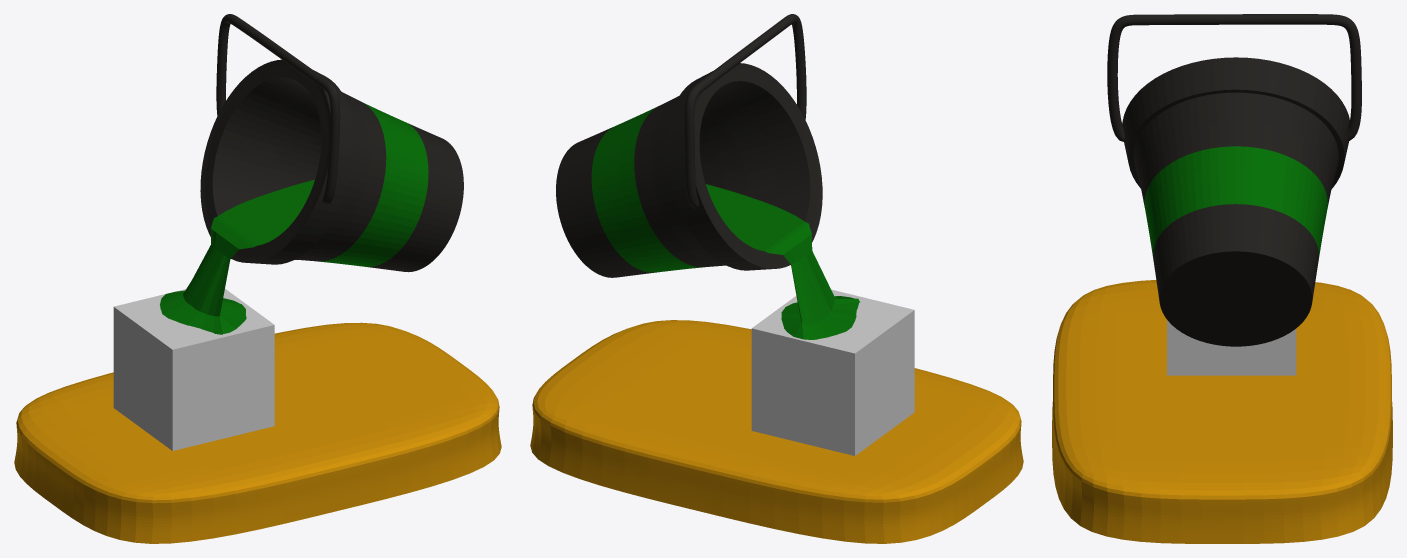
Rendered from fill_btn.obj.
The picture shows the model from 3 angles, left to right: view 1: azimuth 30°, elevation 25°; view 2: azimuth 150°, elevation 25°; view 3: azimuth 270°, elevation 25°; orthographic projection. The views are drawn at different scales.
Parts seen in each view (by area): view 1: Cube, Cylinder, Cube.001, Cylinder.001; view 2: Cube, Cylinder, Cube.001, Cylinder.001; view 3: Cube, Cylinder, Cube.001.
Part boxes in pixels (x1,y1,x2,y2): Cube: (14,322,501,543); Cylinder: (200,14,463,272); Cube.001: (113,289,274,450); Cylinder.001: (160,179,314,334); Cube: (530,320,1023,543); Cylinder: (556,14,822,277); Cube.001: (751,289,914,455); Cylinder.001: (706,184,860,339); Cube: (1052,280,1392,543); Cylinder: (1107,14,1361,346); Cube.001: (1167,320,1296,375).
Size of the model in its own units: 17.54 by 16.18 by 11.5.
